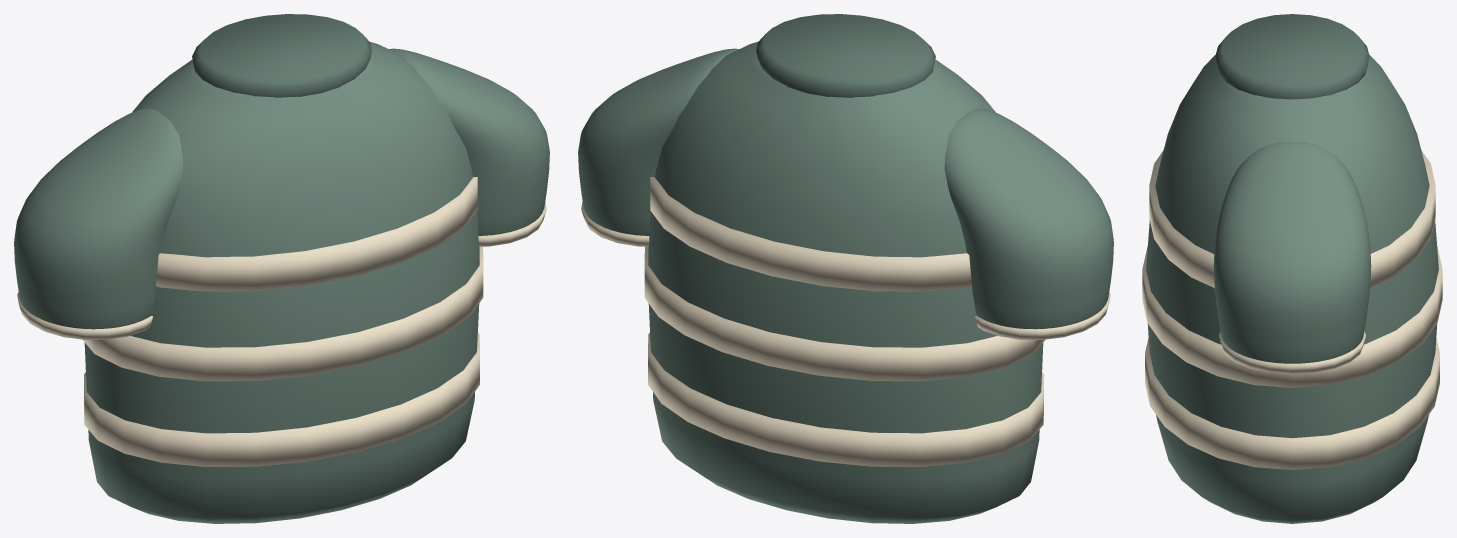
Rendered from stripe.glb.
3 views of the same model, side by side, from view 1: azimuth 30°, elevation 25°; view 2: azimuth 150°, elevation 25°; view 3: azimuth 270°, elevation 25° (orthographic). The views are drawn at different scales.
Visible parts, largest first — view 1: garmentBody, sleeveClothL, stripe0, stripe1, sleeveClothR, collar, stripe2, cuffL, cuffR; view 2: garmentBody, sleeveClothL, stripe0, stripe1, sleeveClothR, collar, stripe2, cuffL, cuffR; view 3: garmentBody, sleeveClothR, collar, stripe0, stripe1, stripe2, cuffR.
Part boxes in pixels (left/top/right/bottom): garmentBody: left=84, top=42, right=479, bottom=523; sleeveClothL: left=14, top=108, right=183, bottom=329; stripe0: left=84, top=333, right=479, bottom=466; stripe1: left=83, top=246, right=483, bottom=381; sleeveClothR: left=389, top=48, right=549, bottom=235; collar: left=192, top=14, right=371, bottom=97; stripe2: left=156, top=177, right=477, bottom=291; cuffL: left=17, top=292, right=152, bottom=339; cuffR: left=478, top=201, right=546, bottom=246; garmentBody: left=648, top=42, right=1043, bottom=523; sleeveClothL: left=944, top=108, right=1113, bottom=329; stripe0: left=648, top=333, right=1043, bottom=466; stripe1: left=644, top=246, right=1044, bottom=381; sleeveClothR: left=578, top=48, right=739, bottom=235; collar: left=756, top=14, right=935, bottom=97; stripe2: left=650, top=177, right=971, bottom=291; cuffL: left=975, top=292, right=1110, bottom=339; cuffR: left=581, top=201, right=649, bottom=246; garmentBody: left=1146, top=55, right=1438, bottom=523; sleeveClothR: left=1213, top=142, right=1371, bottom=363; collar: left=1215, top=14, right=1369, bottom=99; stripe0: left=1145, top=338, right=1439, bottom=469; stripe1: left=1142, top=247, right=1442, bottom=387; stripe2: left=1149, top=150, right=1435, bottom=287; cuffR: left=1219, top=331, right=1365, bottom=373.
Size of the model in its own units: 0.8328 by 0.652 by 0.44.
